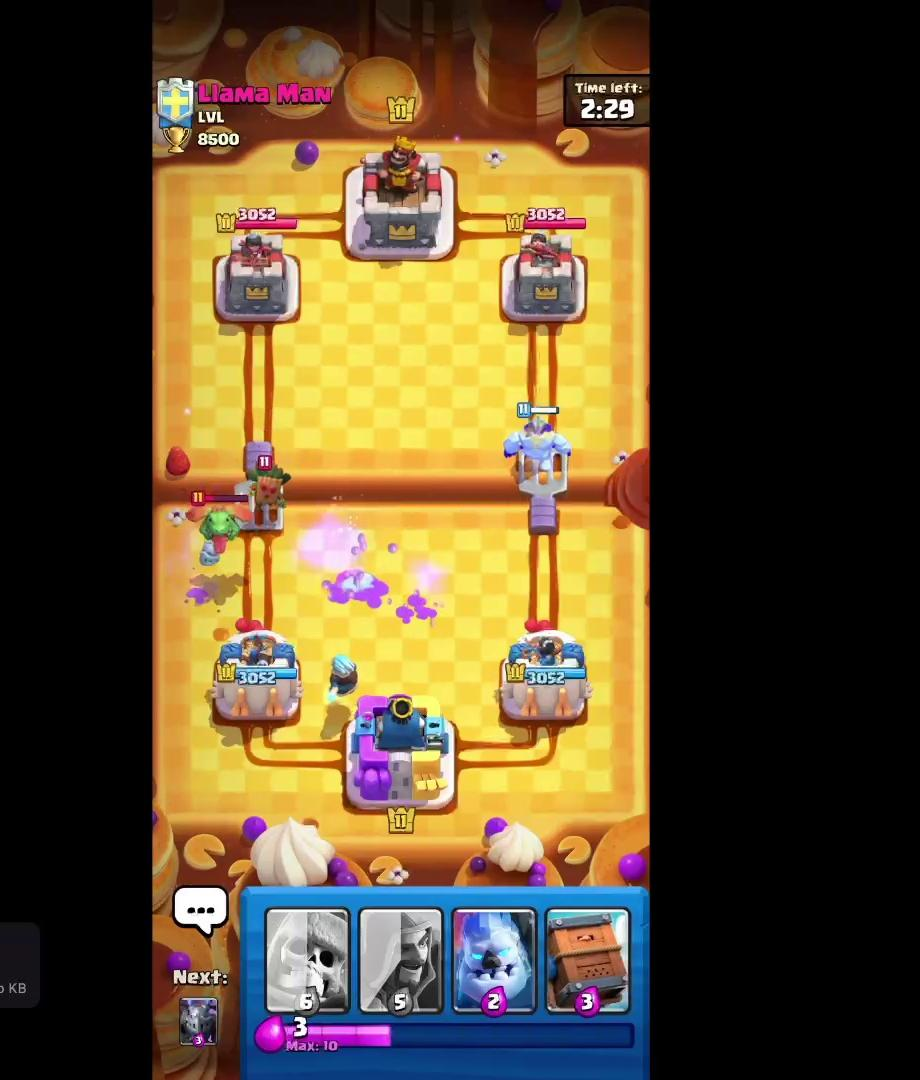Baby Dragon: (182, 489, 252, 555)
Dart Goblin: (240, 449, 298, 516)
